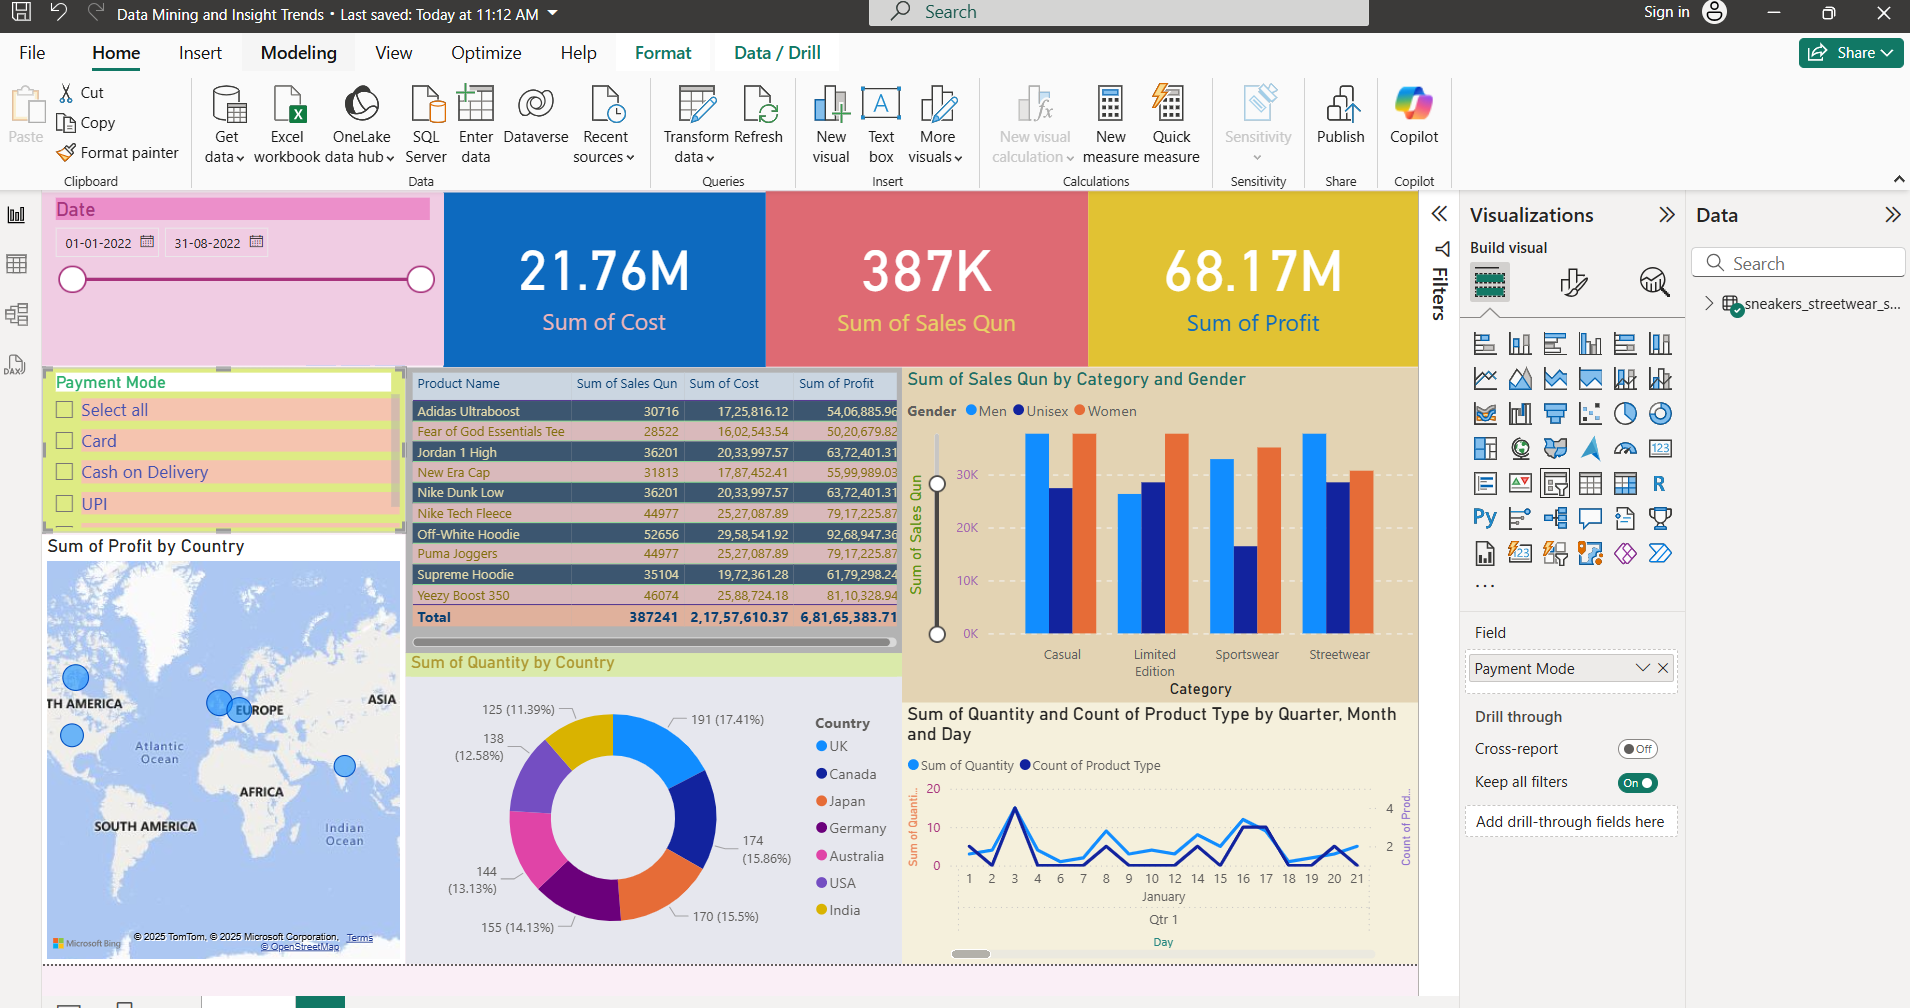

Layout of this report page (visuals, bound fields, positions):
{"tool":"powerbi","page":{"name":"Page 1","canvas":[1280,720],"ordinal":0},"visuals":[{"type":"card","fields":{"Values":["Sum(sneakers_streetwear_sales_data.Sum of Sales Quantity)"]},"box":[673.3,1.2,299.8,163.4],"z":0},{"type":"card","fields":{"Values":["Sum(sneakers_streetwear_sales_data.Sum of Cost Unit Price)"]},"box":[373.5,2.5,299.8,162.2],"z":1000},{"type":"card","fields":{"Values":["Sum(sneakers_streetwear_sales_data.Sum of Profit Amount)"]},"box":[973.1,1.2,307.2,163.4],"z":2000},{"type":"clusteredColumnChart","fields":{"Category":["sneakers_streetwear_sales_data.Category","sneakers_streetwear_sales_data.Date.Variation.Date Hierarchy.Year","sneakers_streetwear_sales_data.Date.Variation.Date Hierarchy.Quarter"],"Y":["Sum(sneakers_streetwear_sales_data.Sales Qun)"],"Series":["sneakers_streetwear_sales_data.Gender"]},"box":[800,165.1,480.2,311.6],"z":3000},{"type":"lineChart","fields":{"Category":["sneakers_streetwear_sales_data.Date.Variation.Date Hierarchy.Quarter","sneakers_streetwear_sales_data.Date.Variation.Date Hierarchy.Month","sneakers_streetwear_sales_data.Date.Variation.Date Hierarchy.Day"],"Y2":["CountNonNull(sneakers_streetwear_sales_data.Product Type)"],"Y":["Sum(sneakers_streetwear_sales_data.Quantity)"]},"box":[799.8,476.7,480.4,243.3],"z":4000},{"type":"donutChart","fields":{"Y":["Sum(sneakers_streetwear_sales_data.Quantity)"],"Category":["sneakers_streetwear_sales_data.Country"]},"box":[337.9,430,462,290],"z":5000},{"type":"tableEx","fields":{"Values":["sneakers_streetwear_sales_data.Product Name","Sum(sneakers_streetwear_sales_data.Sales Quantity)","Sum(sneakers_streetwear_sales_data.Cost Unit Price)","Sum(sneakers_streetwear_sales_data.Profit Amount)"]},"box":[337.9,164.6,462,265.4],"z":6000},{"type":"map","fields":{"Category":["sneakers_streetwear_sales_data.Country"],"Size":["Sum(sneakers_streetwear_sales_data.Profit)"]},"box":[0,320.7,337.9,399.3],"z":7000},{"type":"slicer","fields":{"Values":["sneakers_streetwear_sales_data.Payment Mode"]},"box":[0,164.6,337.9,153.6],"z":8000},{"type":"slicer","fields":{"Values":["sneakers_streetwear_sales_data.Date"]},"box":[0,2.5,373.5,161],"z":9000}]}

Visuals, with their boxes on the page's 1280x720 design canvas (x1, y1, x2, y2). These are canvas units, not pixel positions in the 1910x1008 screenshot, which may show the page scaled, cropped or inside an application window:
card - Sum(sneakers_streetwear_sales_data.Sum of Sales Quantity): BBox(673, 1, 973, 165)
card - Sum(sneakers_streetwear_sales_data.Sum of Cost Unit Price): BBox(374, 2, 673, 165)
card - Sum(sneakers_streetwear_sales_data.Sum of Profit Amount): BBox(973, 1, 1280, 165)
clusteredColumnChart - sneakers_streetwear_sales_data.Category x sneakers_streetwear_sales_data.Date.Variation.Date Hierarchy.Year: BBox(800, 165, 1280, 477)
lineChart - sneakers_streetwear_sales_data.Date.Variation.Date Hierarchy.Quarter x sneakers_streetwear_sales_data.Date.Variation.Date Hierarchy.Month: BBox(800, 477, 1280, 720)
donutChart - Sum(sneakers_streetwear_sales_data.Quantity) x sneakers_streetwear_sales_data.Country: BBox(338, 430, 800, 720)
tableEx - sneakers_streetwear_sales_data.Product Name x Sum(sneakers_streetwear_sales_data.Sales Quantity): BBox(338, 165, 800, 430)
map - sneakers_streetwear_sales_data.Country x Sum(sneakers_streetwear_sales_data.Profit): BBox(0, 321, 338, 720)
slicer - sneakers_streetwear_sales_data.Payment Mode: BBox(0, 165, 338, 318)
slicer - sneakers_streetwear_sales_data.Date: BBox(0, 2, 374, 164)
